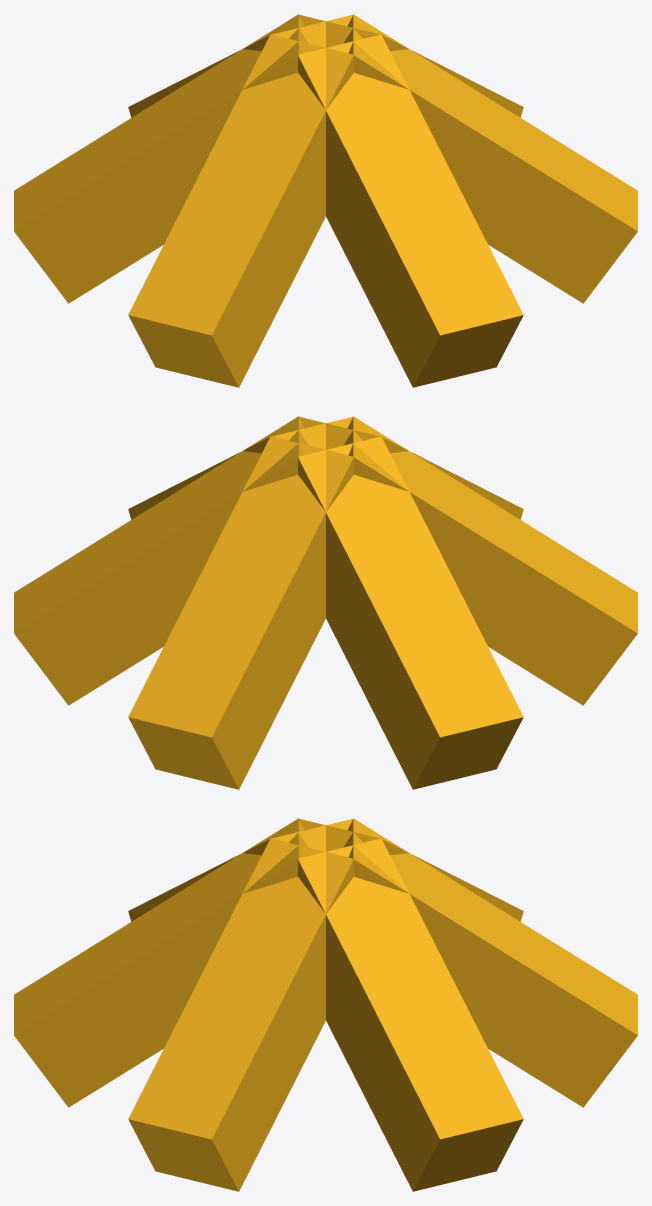
Rendered from spark.glb.
The picture shows the model from 3 angles, top to bottom: view 1: azimuth 30°, elevation 25°; view 2: azimuth 150°, elevation 25°; view 3: azimuth 270°, elevation 25°; orthographic projection.
Visible parts, largest first — view 1: spark; view 2: spark; view 3: spark.
Boxes of the visible parts, box(x1,y1,x2,y2) form: spark: box(14, 14, 637, 387); spark: box(14, 416, 637, 789); spark: box(14, 818, 637, 1191).
Bounding box in the file's own units: 0.8532 × 0.3979 × 0.9044.
